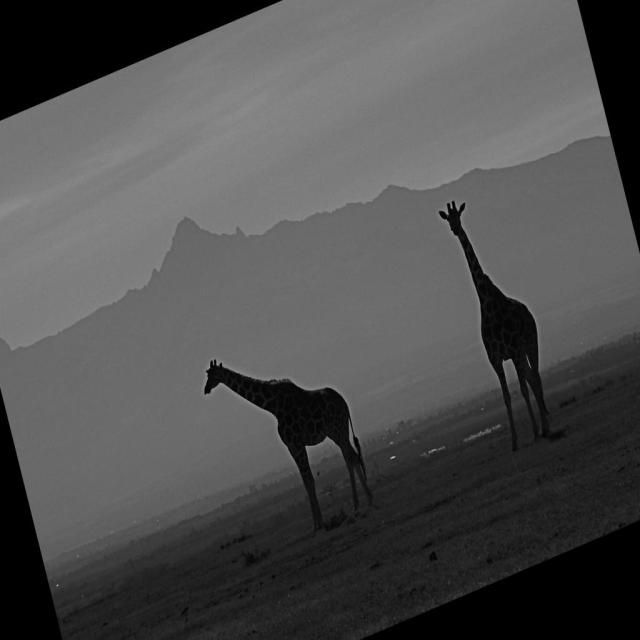Giraffe: (432, 192, 565, 454)
